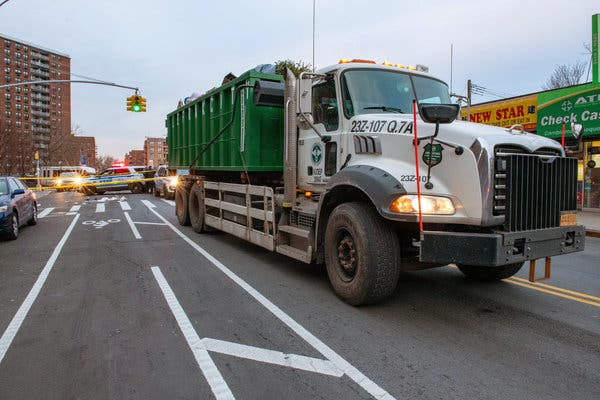truck: (159, 56, 590, 302)
